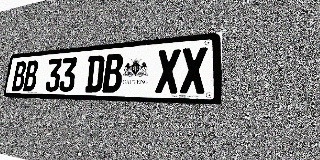3: (59, 57, 77, 92), (45, 58, 62, 92)
B: (102, 53, 124, 93), (23, 60, 39, 92), (11, 61, 27, 91)
D: (85, 55, 105, 92)
X: (180, 46, 207, 94), (155, 49, 181, 93)
